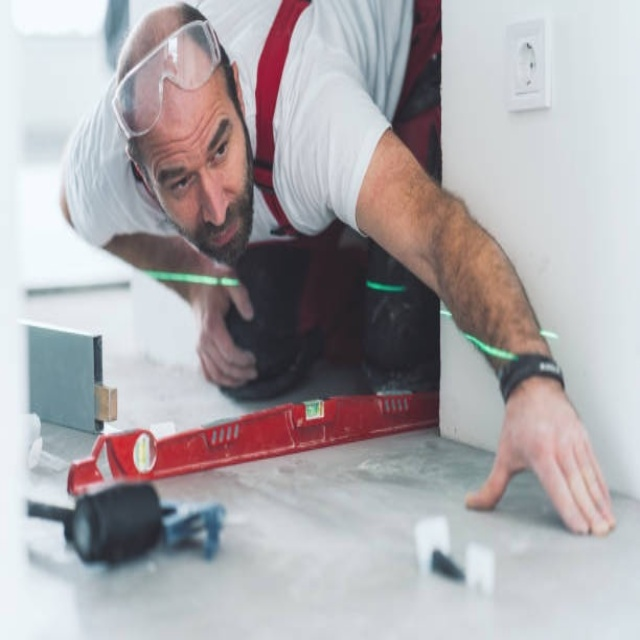Sin_gafas: (155, 113, 237, 207)
Sin_guantes: (465, 373, 617, 539), (187, 273, 261, 388)
Sin_mascara: (201, 212, 250, 254)
